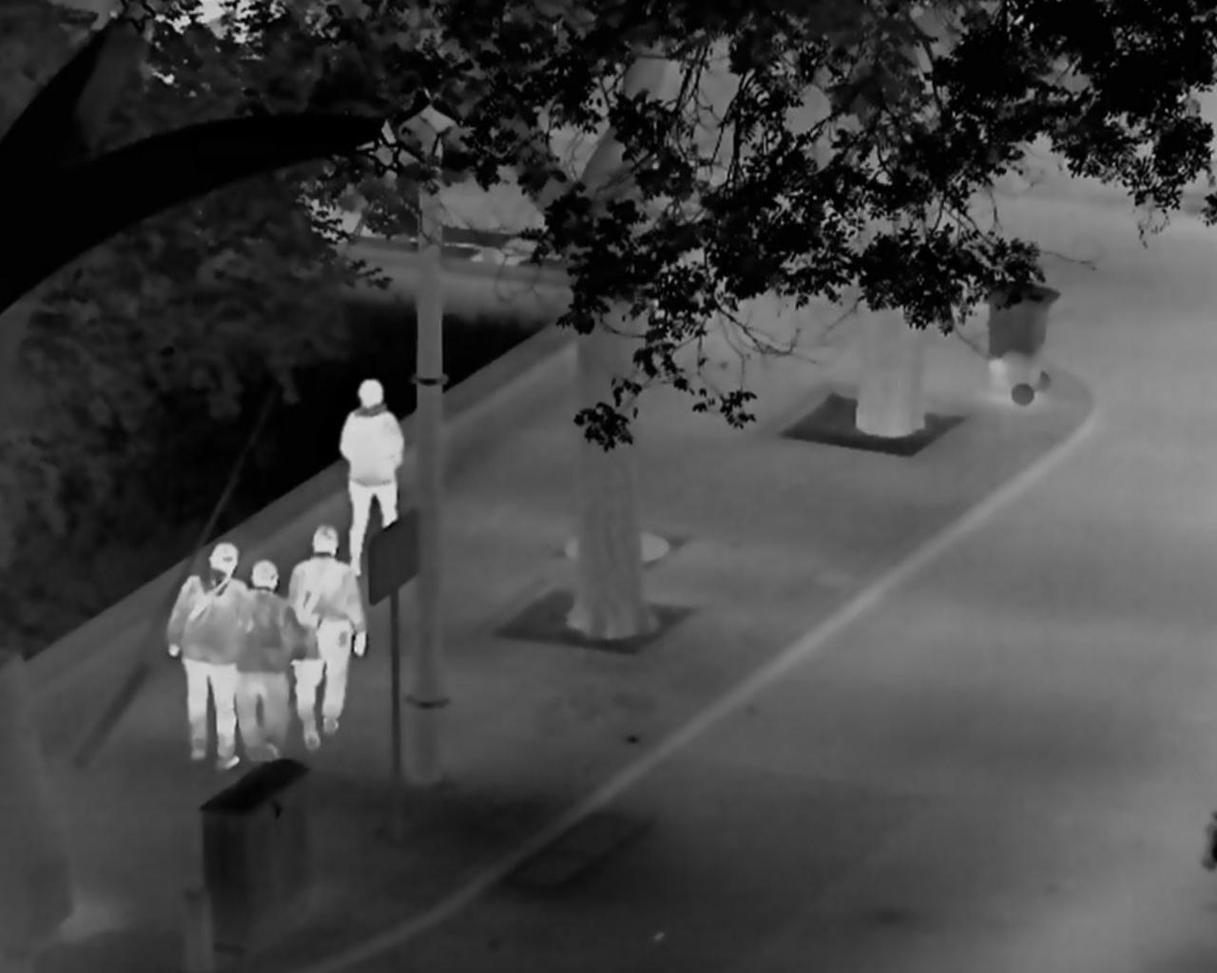person: (166, 542, 252, 771), (288, 523, 368, 754), (232, 557, 306, 761), (338, 376, 405, 575)
